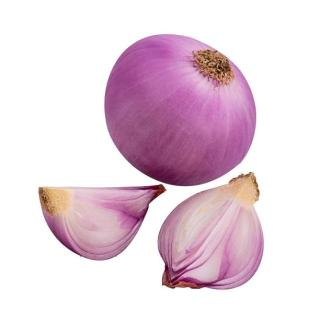Bawang Merah: (102, 32, 260, 190)
